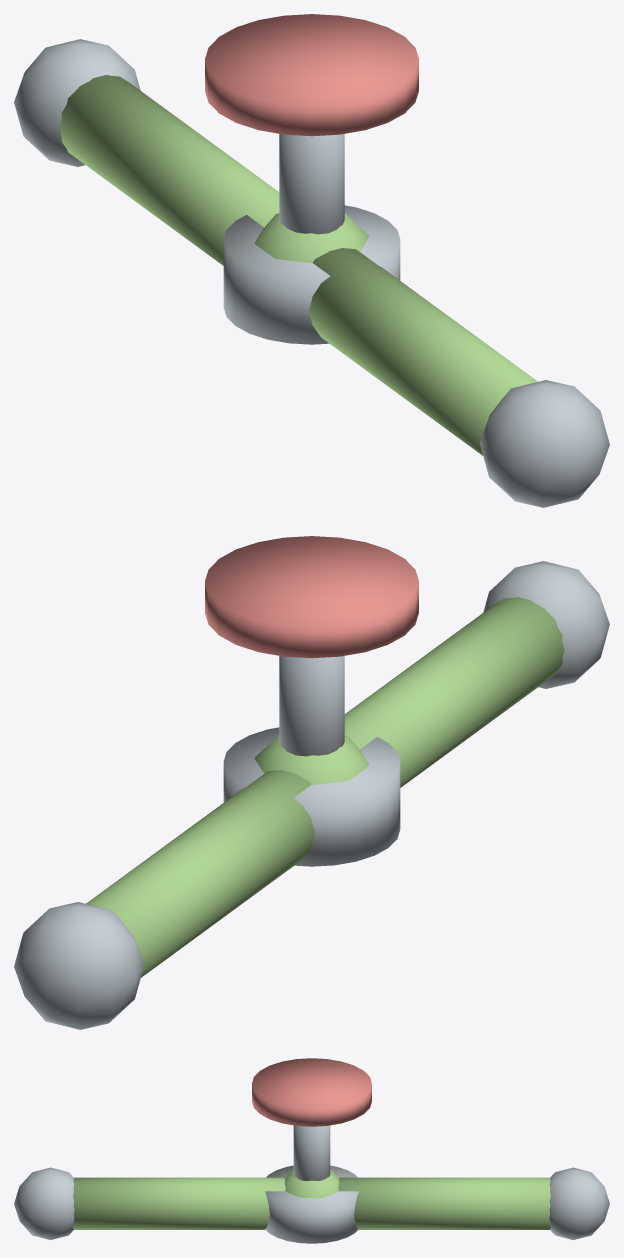
File: pipe_valve_enhanced.glb
The picture shows the model from 3 angles, top to bottom: view 1: azimuth 30°, elevation 25°; view 2: azimuth 150°, elevation 25°; view 3: azimuth 270°, elevation 25°; orthographic projection. The views are drawn at different scales.
Parts seen in each view (by area): view 1: Conduit_green, Valve_red, Coupler_steel, JunctionCap_steel, Valve_steel, Junction_green; view 2: Conduit_green, Valve_red, Coupler_steel, JunctionCap_steel, Valve_steel, Junction_green; view 3: Conduit_green, Coupler_steel, Valve_red, JunctionCap_steel, Valve_steel, Junction_green.
Part boxes in pixels (x1,y1,x2,y2): Conduit_green: (59,75,537,455); Valve_red: (205,14,418,136); Coupler_steel: (14,39,609,507); JunctionCap_steel: (223,205,400,344); Valve_steel: (279,134,344,234); Junction_green: (255,213,368,262); Conduit_green: (86,597,564,977); Valve_red: (205,536,418,658); Coupler_steel: (14,561,609,1029); JunctionCap_steel: (223,727,400,866); Valve_steel: (279,656,344,756); Junction_green: (255,735,368,784); Conduit_green: (73,1177,550,1229); Coupler_steel: (14,1167,609,1239); Valve_red: (252,1058,371,1126); JunctionCap_steel: (265,1165,358,1243); Valve_steel: (293,1125,330,1180); Junction_green: (284,1169,339,1197).
Bounding box in the file's own units: 0.46 × 0.6575 × 2.28.
